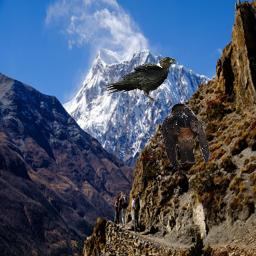Crow: (103, 56, 179, 103)
Swallow: (161, 103, 210, 170)
